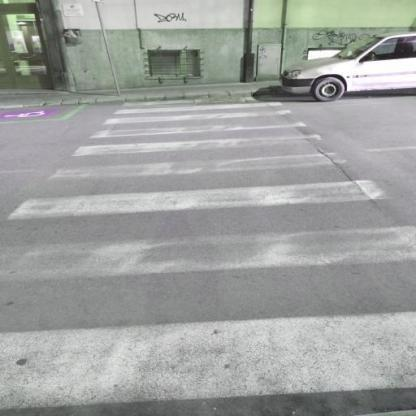crosswalk: (0, 221, 416, 404), (49, 132, 362, 182)
